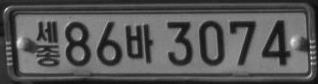0: (198, 20, 225, 66)
3: (261, 19, 292, 66), (165, 20, 193, 66)
6: (95, 21, 123, 66)
7: (228, 19, 257, 66)
8: (64, 20, 92, 67)
바: (125, 22, 153, 64)
세종_V: (35, 20, 60, 67)
